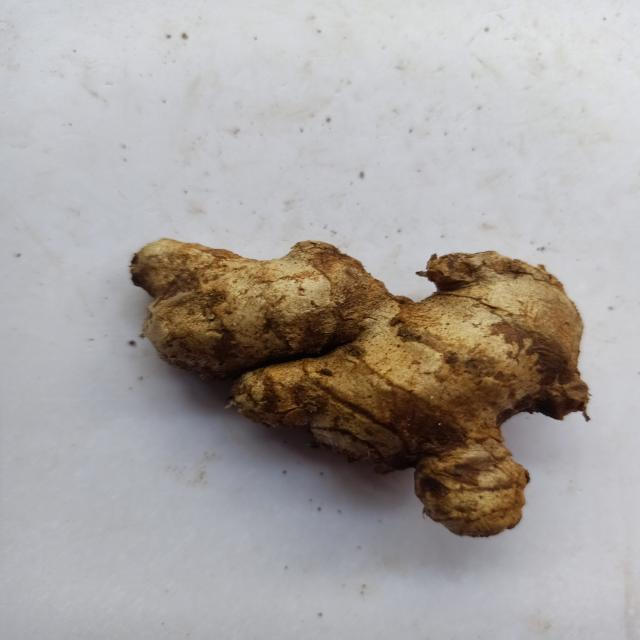Ginger: (129, 239, 589, 537)
